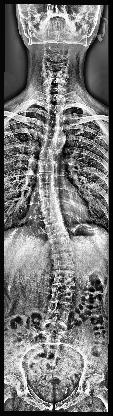Vertebrae: (47, 306, 75, 320), (49, 254, 76, 268), (49, 288, 76, 302), (52, 272, 78, 284), (43, 225, 69, 235), (49, 240, 72, 250), (46, 104, 66, 114), (34, 175, 58, 183), (45, 116, 64, 126), (36, 187, 58, 195), (40, 198, 62, 206), (42, 212, 64, 219), (37, 150, 56, 158), (44, 128, 62, 136), (42, 140, 60, 148), (38, 162, 56, 170)
